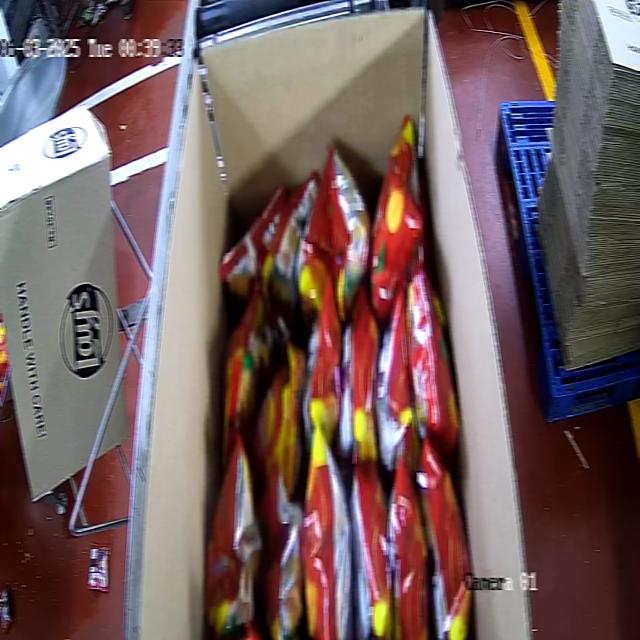MASALA: (206, 115, 474, 638)
